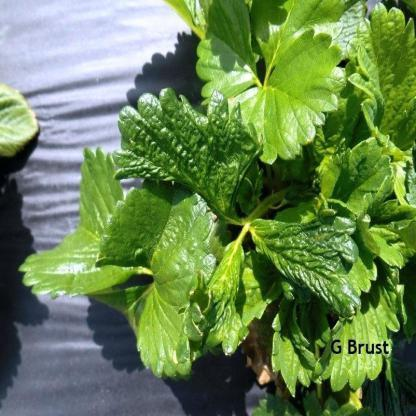Strawberry leaf: (198, 1, 347, 160), (112, 90, 256, 214), (13, 212, 154, 305), (155, 187, 213, 302), (136, 286, 198, 380)
